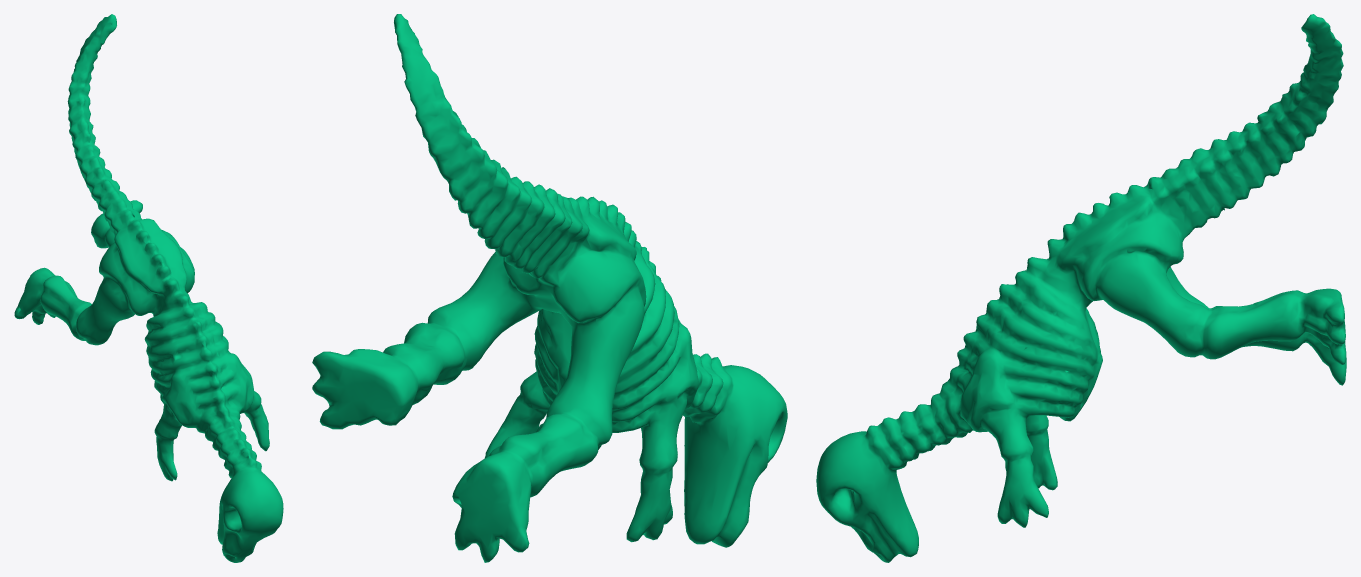
Rendered from Dino20KN.obj.
The picture shows the model from 3 angles, left to right: view 1: azimuth 30°, elevation 25°; view 2: azimuth 150°, elevation 25°; view 3: azimuth 270°, elevation 25°; orthographic projection. The views are drawn at different scales.
Bounding box in the file's own units: 38.84 × 116 × 97.99.
